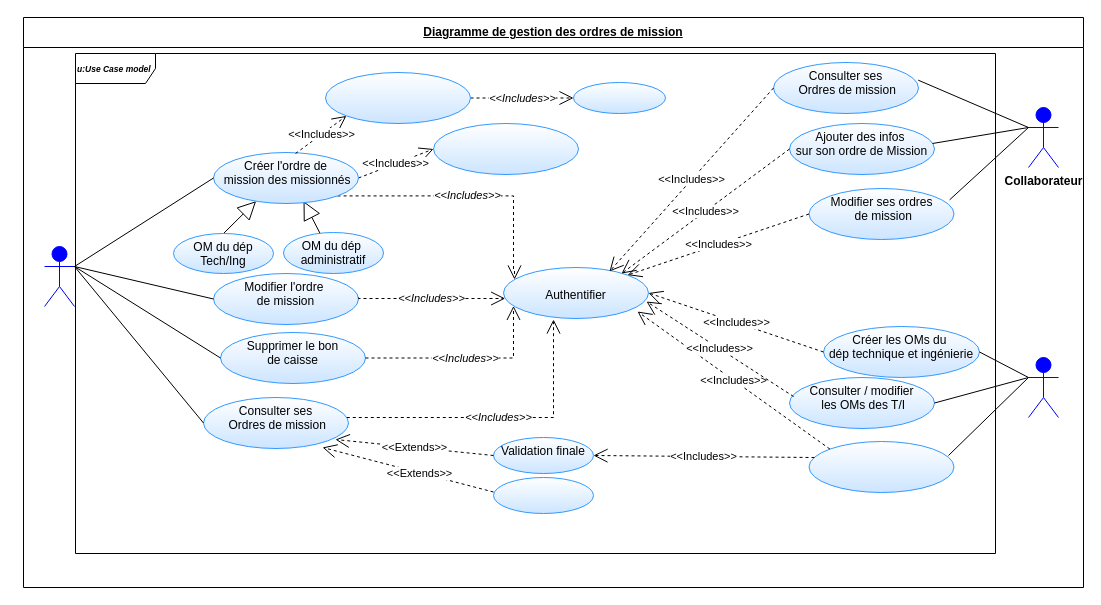
The diagram is 1101 pixels wide and 605 high, and some of its shapes have lost their labels. Each missing label, with the centre of its shape:
"Administrateur" goes at pixel 59 276.
"Affecter au Bon de Caisse correspondant" goes at pixel 397 98.
"Filtrer" goes at pixel 619 98.
"Imprimer l'OM" goes at pixel 543 495.
"Notifier le Collaborateur" goes at pixel 505 148.
"Superviseur" goes at pixel 1043 387.
"Valider les OMs des T/I" goes at pixel 881 466.
